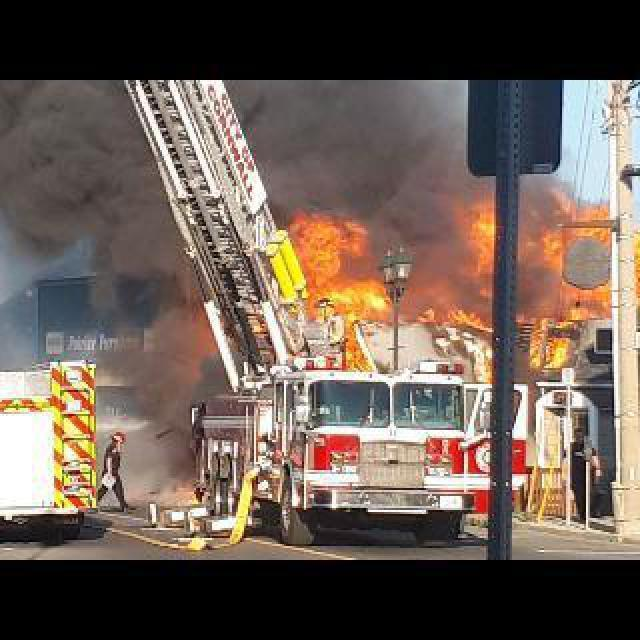Fire: (268, 192, 630, 366)
Smoke: (110, 286, 204, 500)
